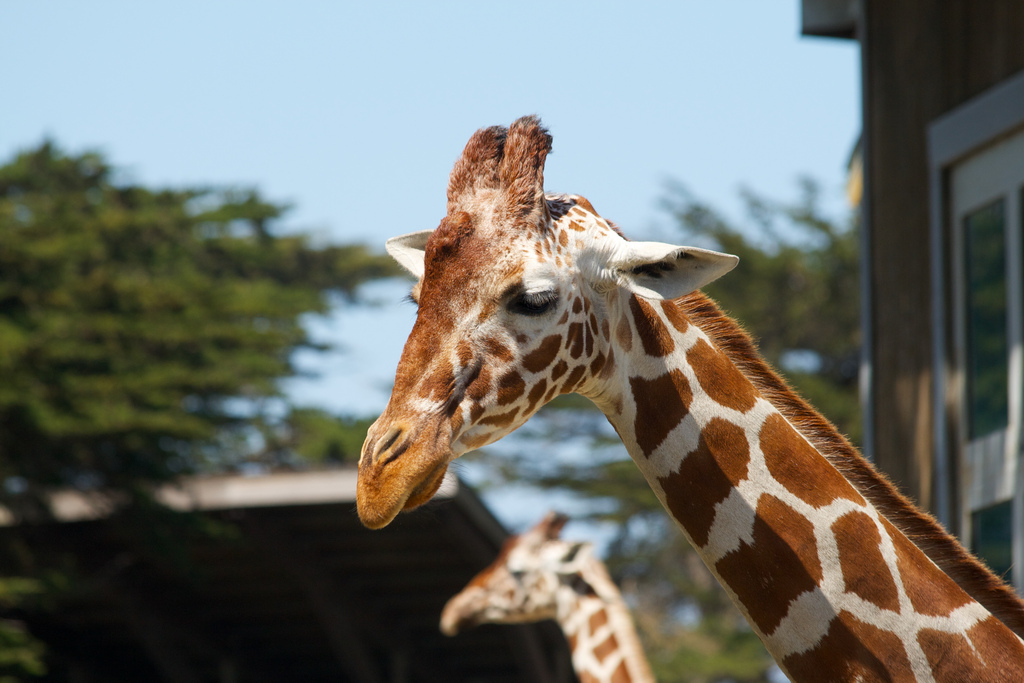giraffe: (328, 111, 982, 683)
